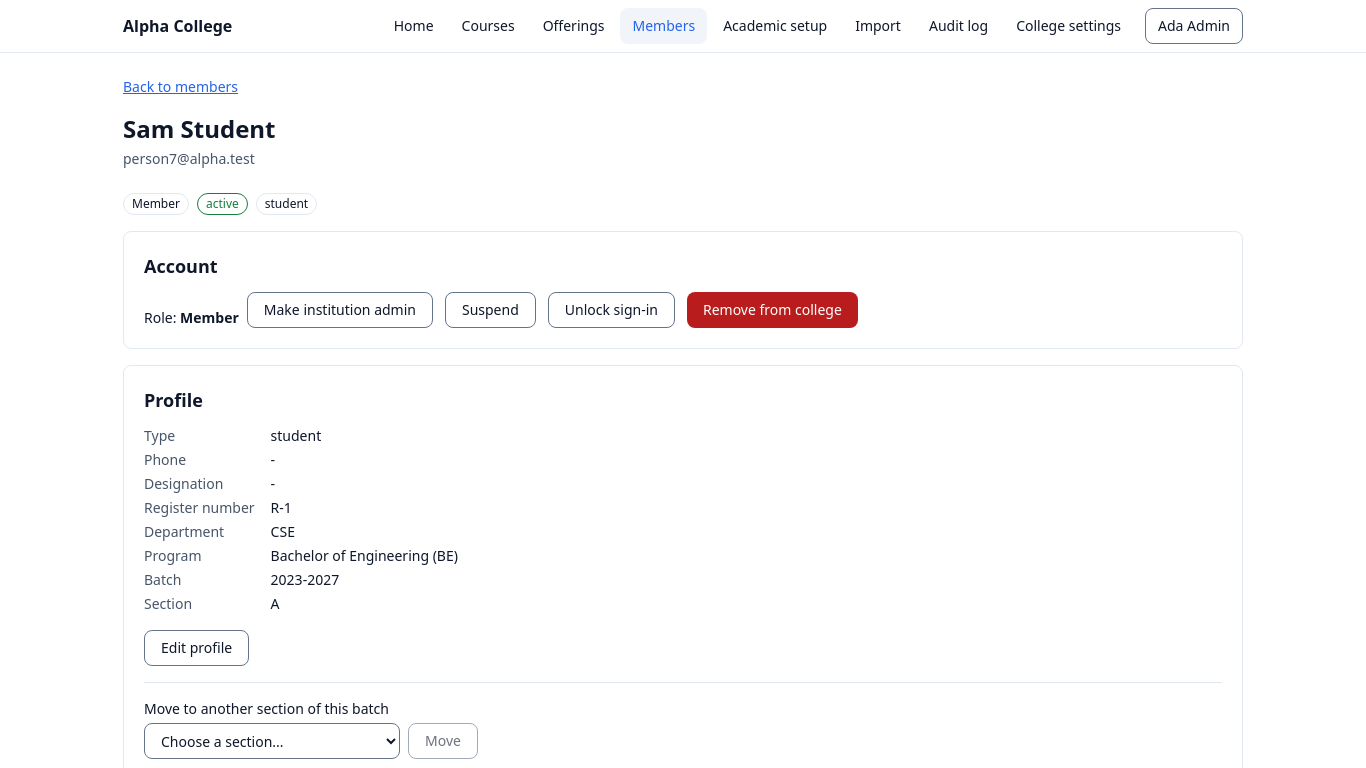
Scenario: member detail › asks for confirmation naming the person, then suspends and updates the page without refetching
Expected: the heading "Sam Student" is shown, [123, 113, 276, 145]
Step 1. Click the button "Suspend" → (490, 310), box [445, 292, 536, 328]
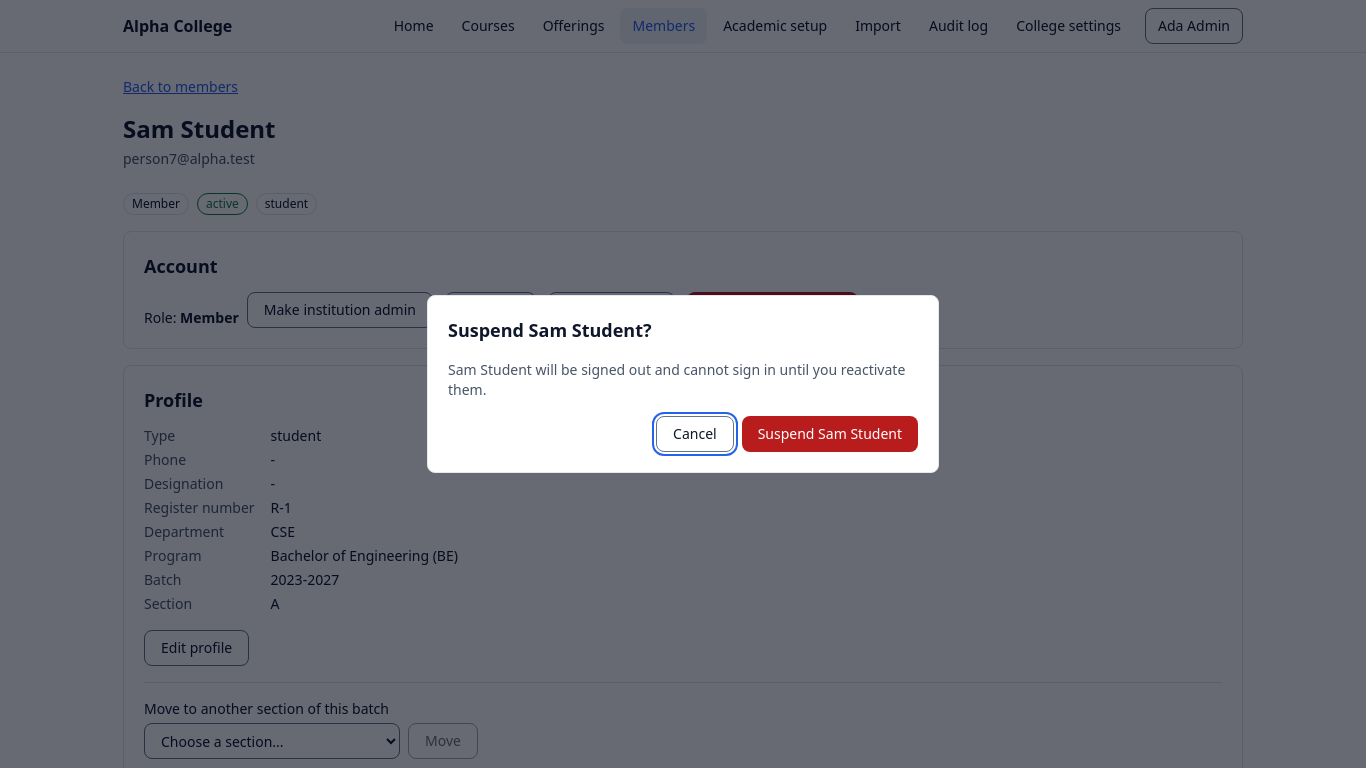
Now the button "Suspend Sam Student" is shown
Step 2. Click the button "Suspend Sam Student" → (830, 434), box [742, 416, 918, 452]
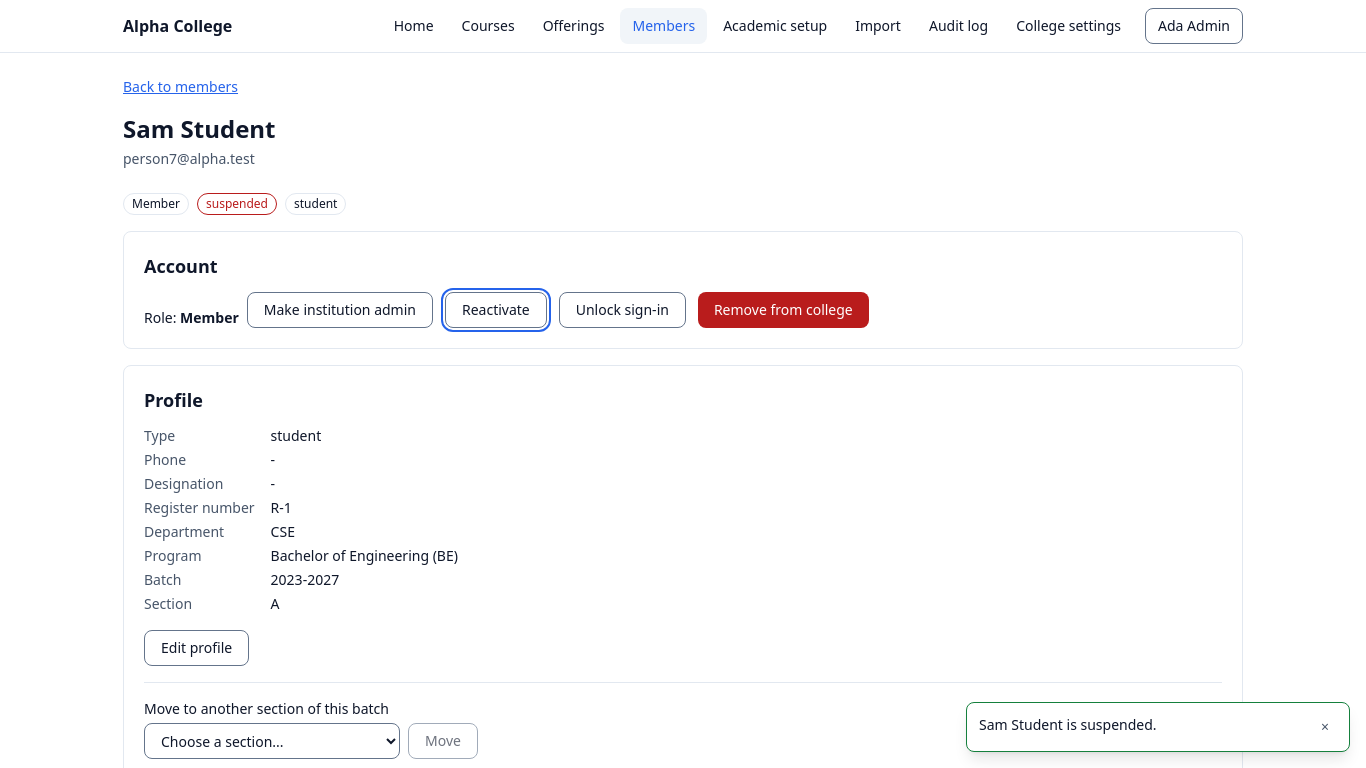
Now the message shows "Sam Student is suspended.", box [979, 715, 1157, 734]
Now the button "Reactivate" is shown, box [445, 292, 547, 328]
